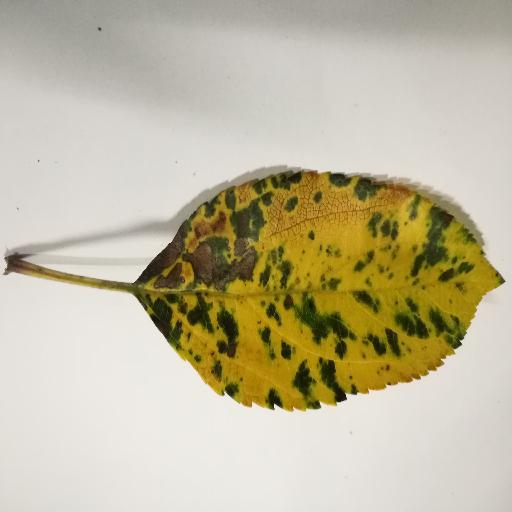Brown_Spot: (118, 210, 270, 295)
